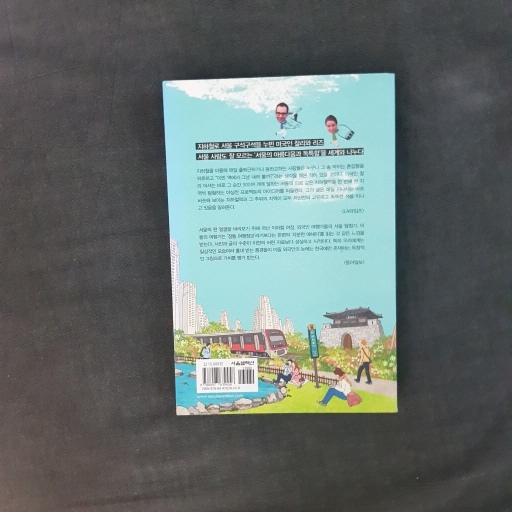Paper_0: (154, 65, 411, 424)
